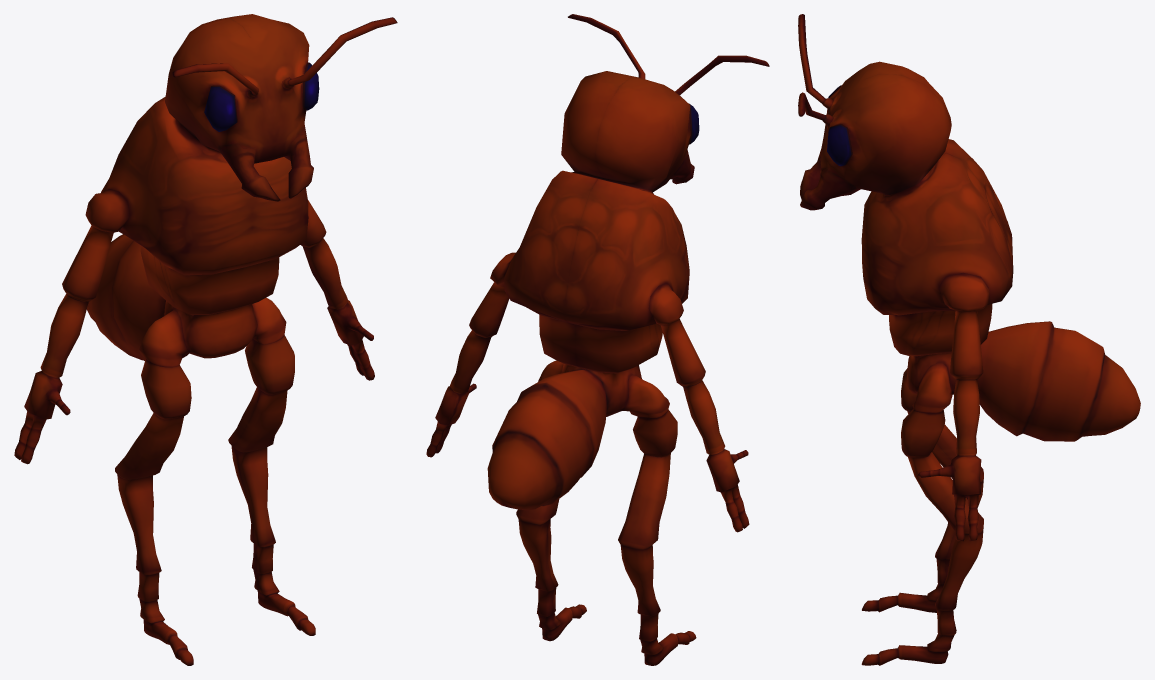
File: ant.fbx
3 renders of one model, left to right at view 1: azimuth 30°, elevation 25°; view 2: azimuth 150°, elevation 25°; view 3: azimuth 270°, elevation 25°, orthographic. The views are drawn at different scales.
Visible parts, largest first — view 1: Cube; view 2: Cube; view 3: Cube.
Boxes of the visible parts, x1=… form: Cube: x1=14, y1=14, x2=397, y2=665; Cube: x1=426, y1=14, x2=769, y2=665; Cube: x1=798, y1=14, x2=1140, y2=665.
Size of the model in its own units: 73.55 by 126 by 68.07.
